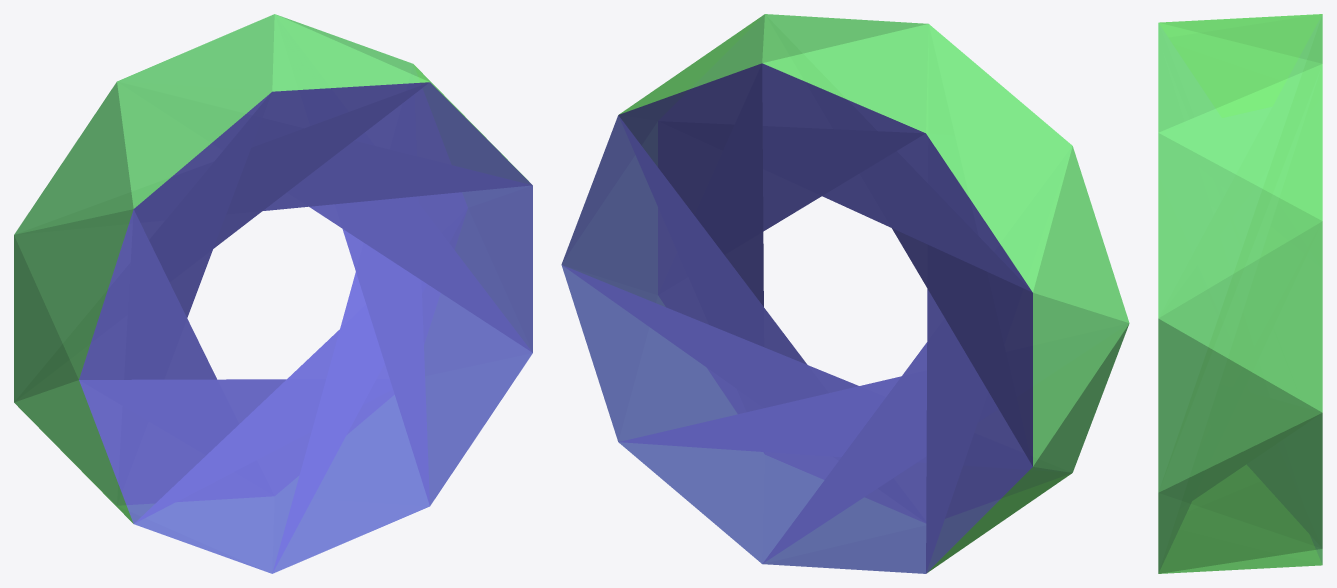
File: AntiEnneagonalIrisToroid2.obj
3 renders of one model, left to right at view 1: azimuth 30°, elevation 25°; view 2: azimuth 150°, elevation 25°; view 3: azimuth 270°, elevation 25°, orthographic. The views are drawn at different scales.
Size of the model in its own units: 2.6 by 2.56 by 0.76.
